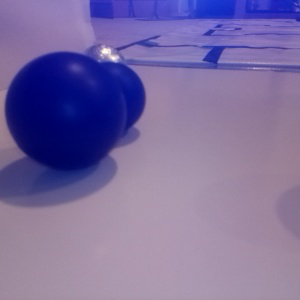alive_ball: (80, 42, 127, 94)
dead_ball: (4, 50, 126, 170), (89, 61, 146, 133)
